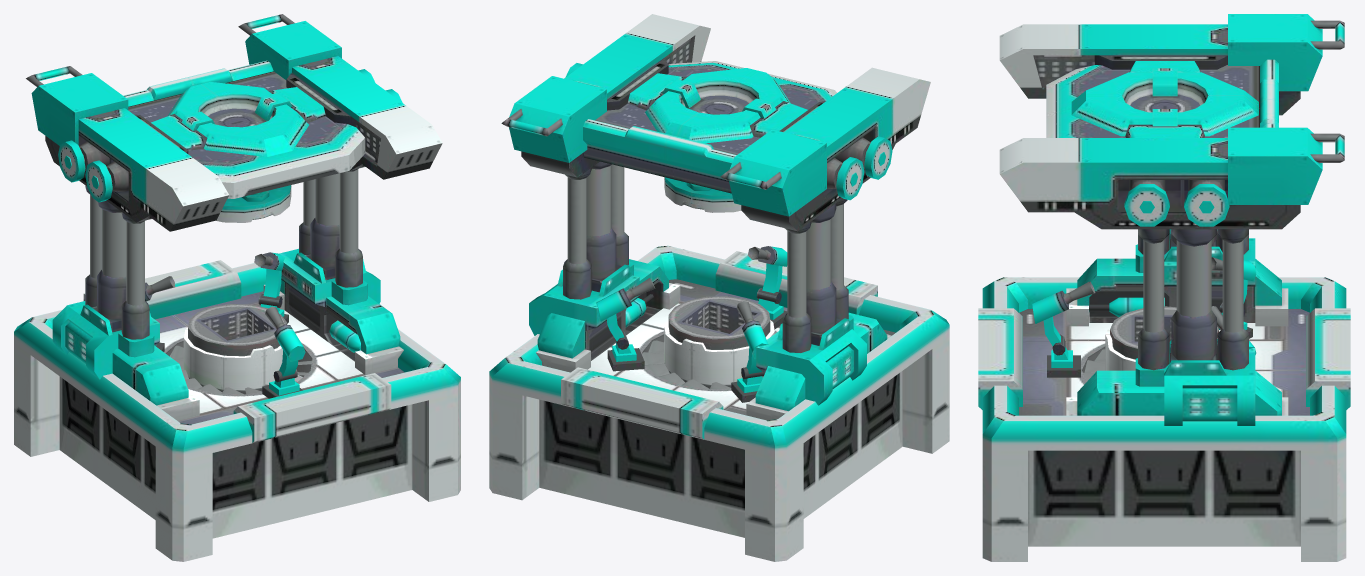
3 views of the same model, side by side, from view 1: azimuth 30°, elevation 25°; view 2: azimuth 150°, elevation 25°; view 3: azimuth 270°, elevation 25° (orthographic). The views are drawn at different scales.
Parts seen in each view (by area): view 1: assembler-mk-2; view 2: assembler-mk-2; view 3: assembler-mk-2.
Part boxes in pixels (left/top/right/bottom): assembler-mk-2: left=14, top=14, right=460, bottom=561; assembler-mk-2: left=489, top=14, right=949, bottom=561; assembler-mk-2: left=978, top=14, right=1350, bottom=561.
Bounding box in the file's own units: 4.17 × 4.85 × 4.09.
Materials: 1 (1 with a texture image).
